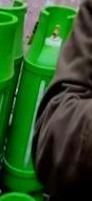cylinder: (1, 1, 92, 201)
